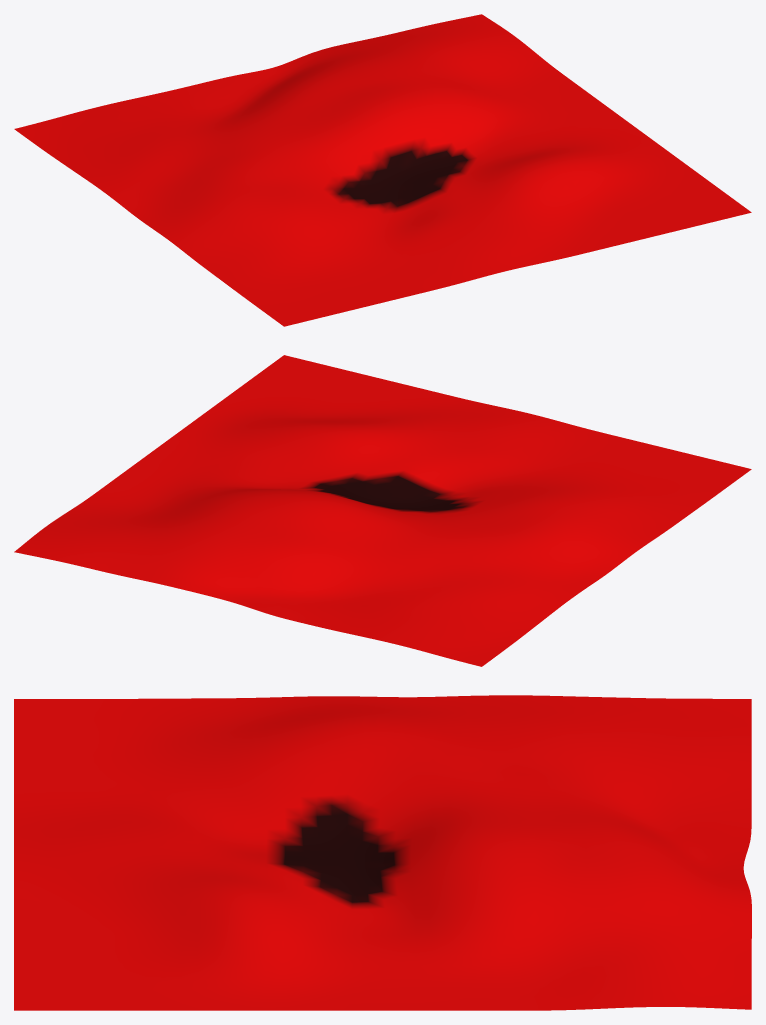
File: test_terrain.fbx
3 renders of one model, top to bottom at view 1: azimuth 30°, elevation 25°; view 2: azimuth 150°, elevation 25°; view 3: azimuth 270°, elevation 25°, orthographic. The views are drawn at different scales.
Visible parts, largest first — view 1: Plane; view 2: Plane; view 3: Plane.
Part boxes in pixels (x1,y1,x2,y2): Plane: [14, 14, 751, 326]; Plane: [14, 355, 751, 666]; Plane: [14, 695, 751, 1010].
Size of the model in its own units: 40001 by 2648 by 40020.
